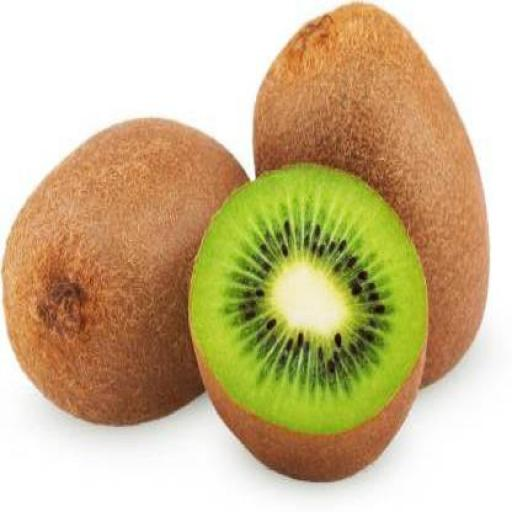kiwi: (251, 1, 494, 385), (186, 155, 429, 485), (4, 107, 245, 435)
